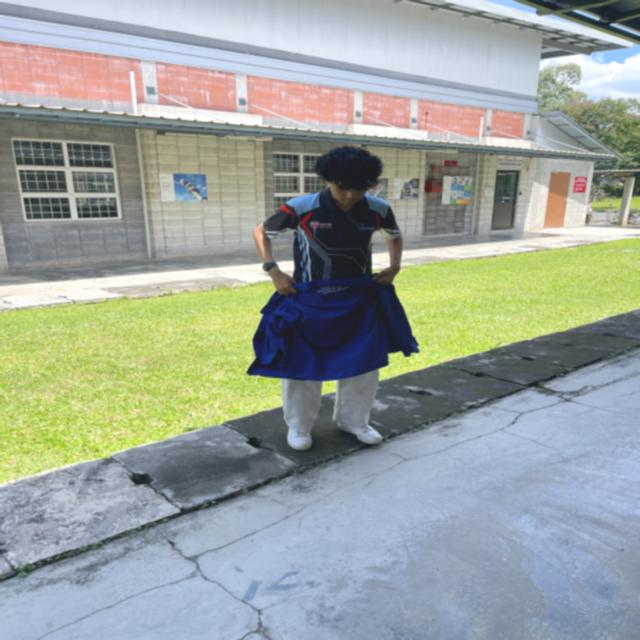person_without_labcoat: (247, 146, 419, 451)
